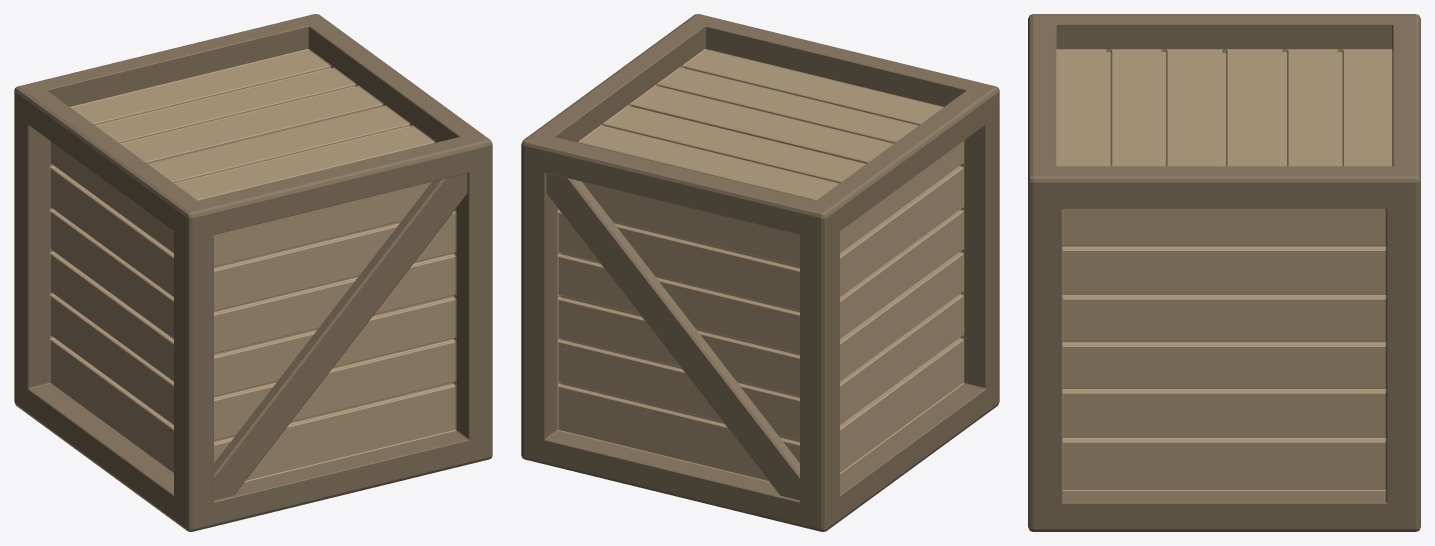
Rendered from Crate.fbx.
3 views of the same model, side by side, from view 1: azimuth 30°, elevation 25°; view 2: azimuth 150°, elevation 25°; view 3: azimuth 270°, elevation 25° (orthographic). The views are drawn at different scales.
Visible parts, largest first — view 1: Cube.028; view 2: Cube.028; view 3: Cube.028.
Part boxes in pixels (x1,y1,x2,y2): Cube.028: (14, 14, 492, 531); Cube.028: (521, 14, 999, 531); Cube.028: (1028, 14, 1420, 531).
Size of the model in its own units: 200 by 200 by 200.
